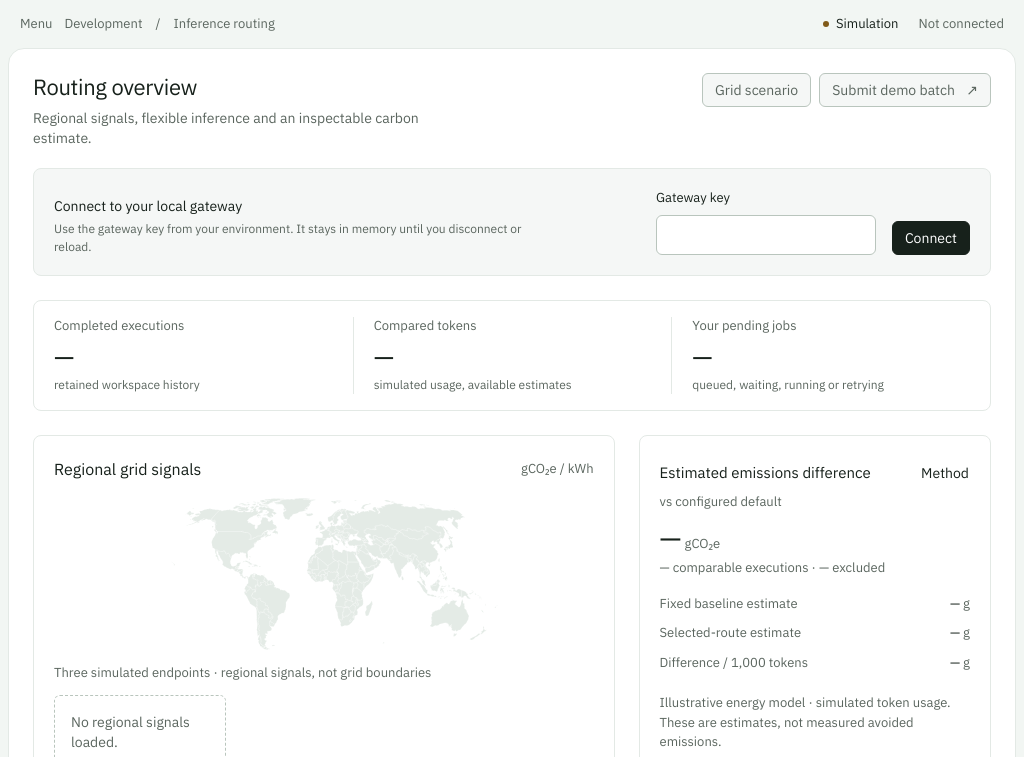
dashboard › opens navigation without leaving obscured content focusable
Click the button "Menu".
click(36, 24)  # box [20, 7, 52, 41]
(page scrolled)
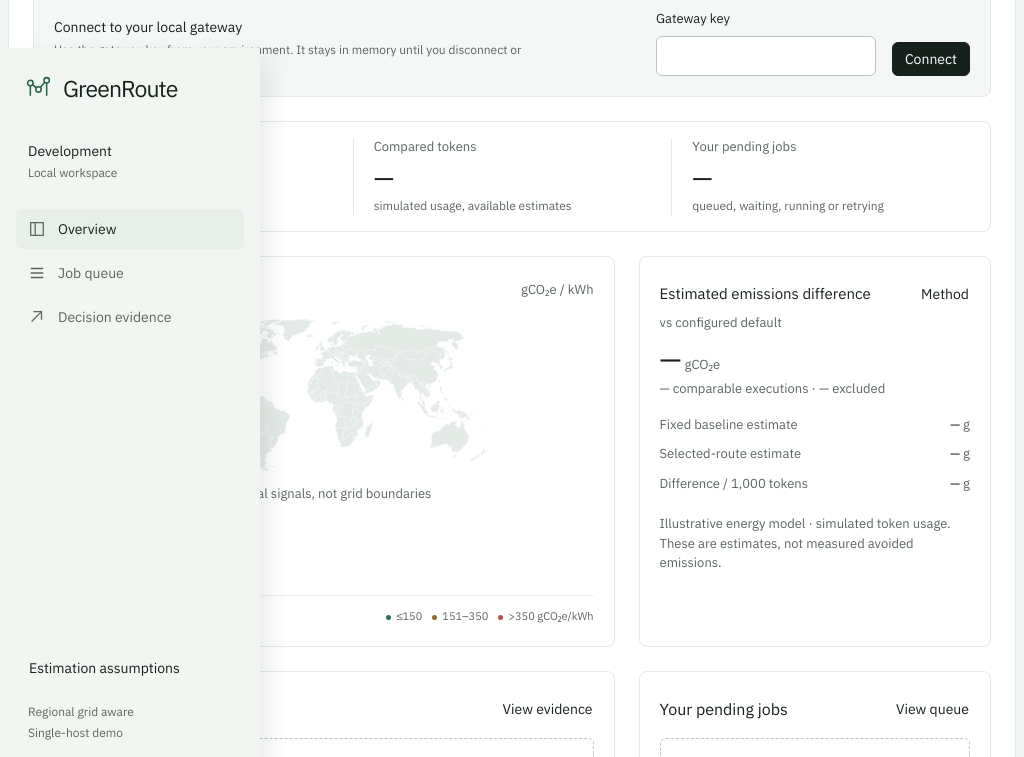
Press Escape
(page scrolled)
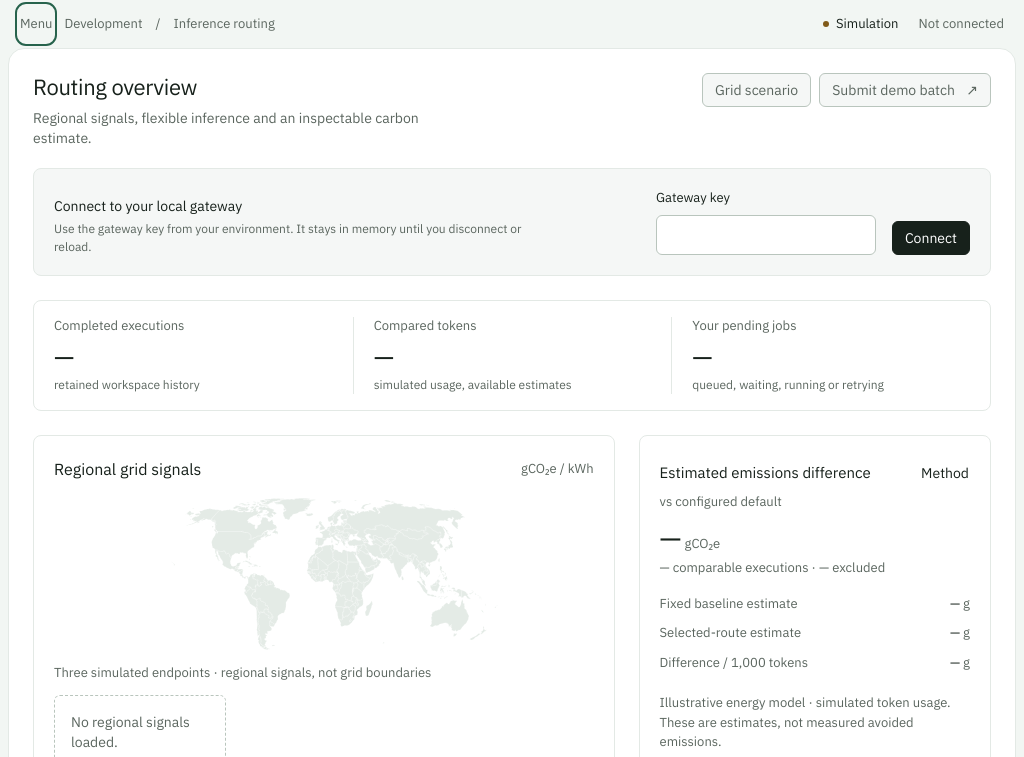
Expected: the button "Menu" is collapsed, [20, 7, 52, 41]
